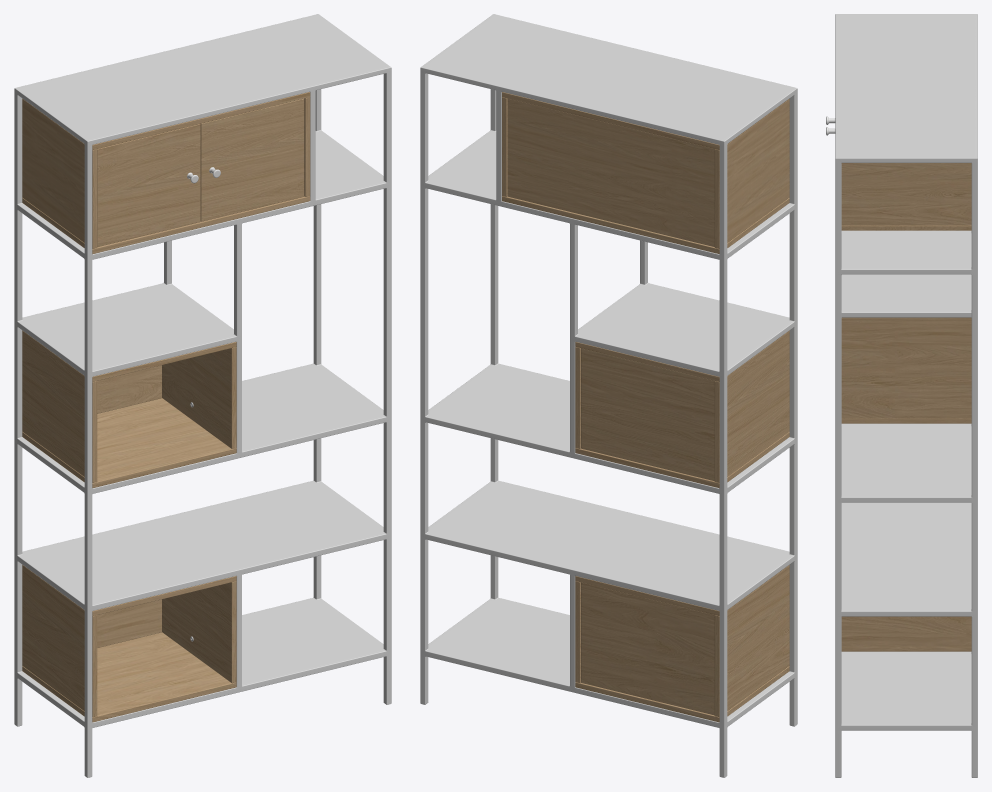
Rendered from bookcase_t.glb.
3 views of the same model, side by side, from view 1: azimuth 30°, elevation 25°; view 2: azimuth 150°, elevation 25°; view 3: azimuth 270°, elevation 25° (orthographic). The views are drawn at different scales.
Visible parts, largest first — view 1: Foshay Bookcase (Rack); view 2: Foshay Bookcase (Rack); view 3: Foshay Bookcase (Rack).
Part boxes in pixels (x1,y1,x2,y2): Foshay Bookcase (Rack): (14,14,391,777); Foshay Bookcase (Rack): (420,14,797,777); Foshay Bookcase (Rack): (826,14,977,777).
Bounding box in the file's own units: 0.9145 × 1.83 × 0.4059.
4 materials, 1 textured.
